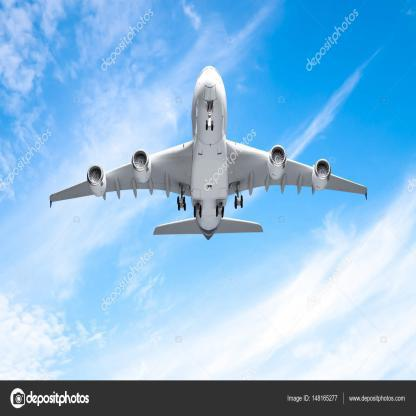CIV_Plane: (49, 60, 369, 243)
